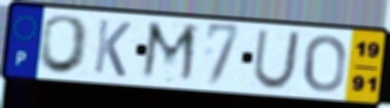7: (201, 22, 242, 92)
K: (91, 17, 134, 80)
M: (138, 19, 201, 87)
O: (35, 14, 93, 76), (303, 33, 348, 94)
U: (250, 28, 304, 92)
